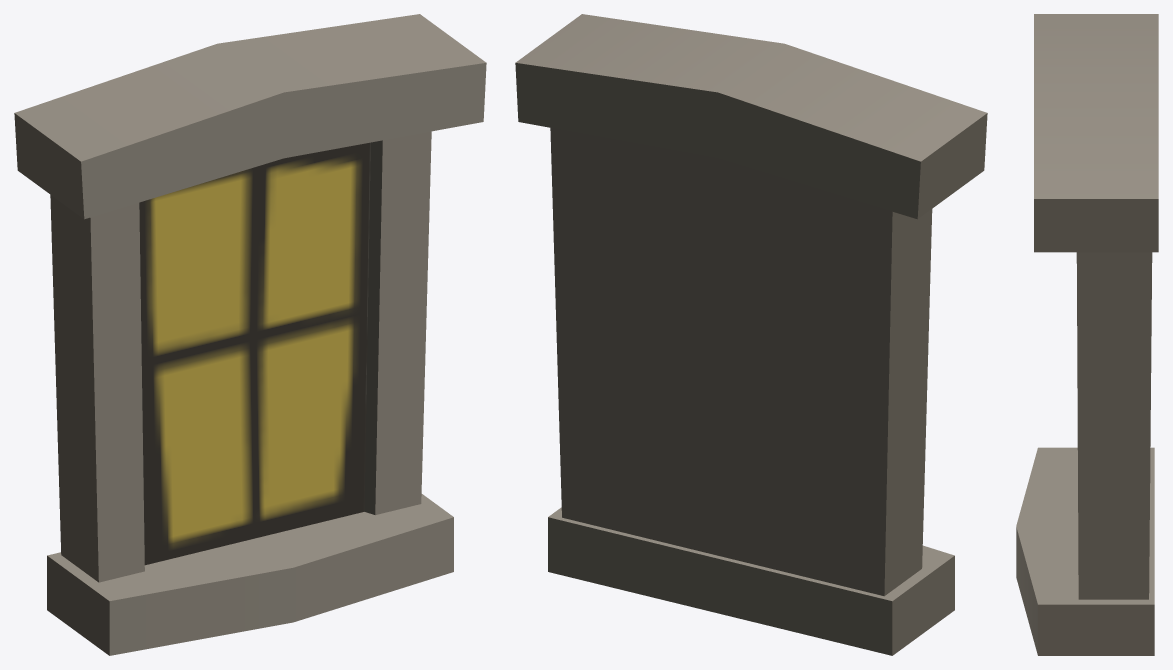
File: Window_A01.fbx
3 renders of one model, left to right at view 1: azimuth 30°, elevation 25°; view 2: azimuth 150°, elevation 25°; view 3: azimuth 270°, elevation 25°, orthographic. The views are drawn at different scales.
Visible parts, largest first — view 1: Window_A01; view 2: Window_A01; view 3: Window_A01.
Boxes of the visible parts, x1,y1,x2,y2 form: Window_A01: (14,14,486,655); Window_A01: (515,14,987,655); Window_A01: (1016,14,1158,655).
Size of the model in its own units: 158 by 195 by 51.42.
